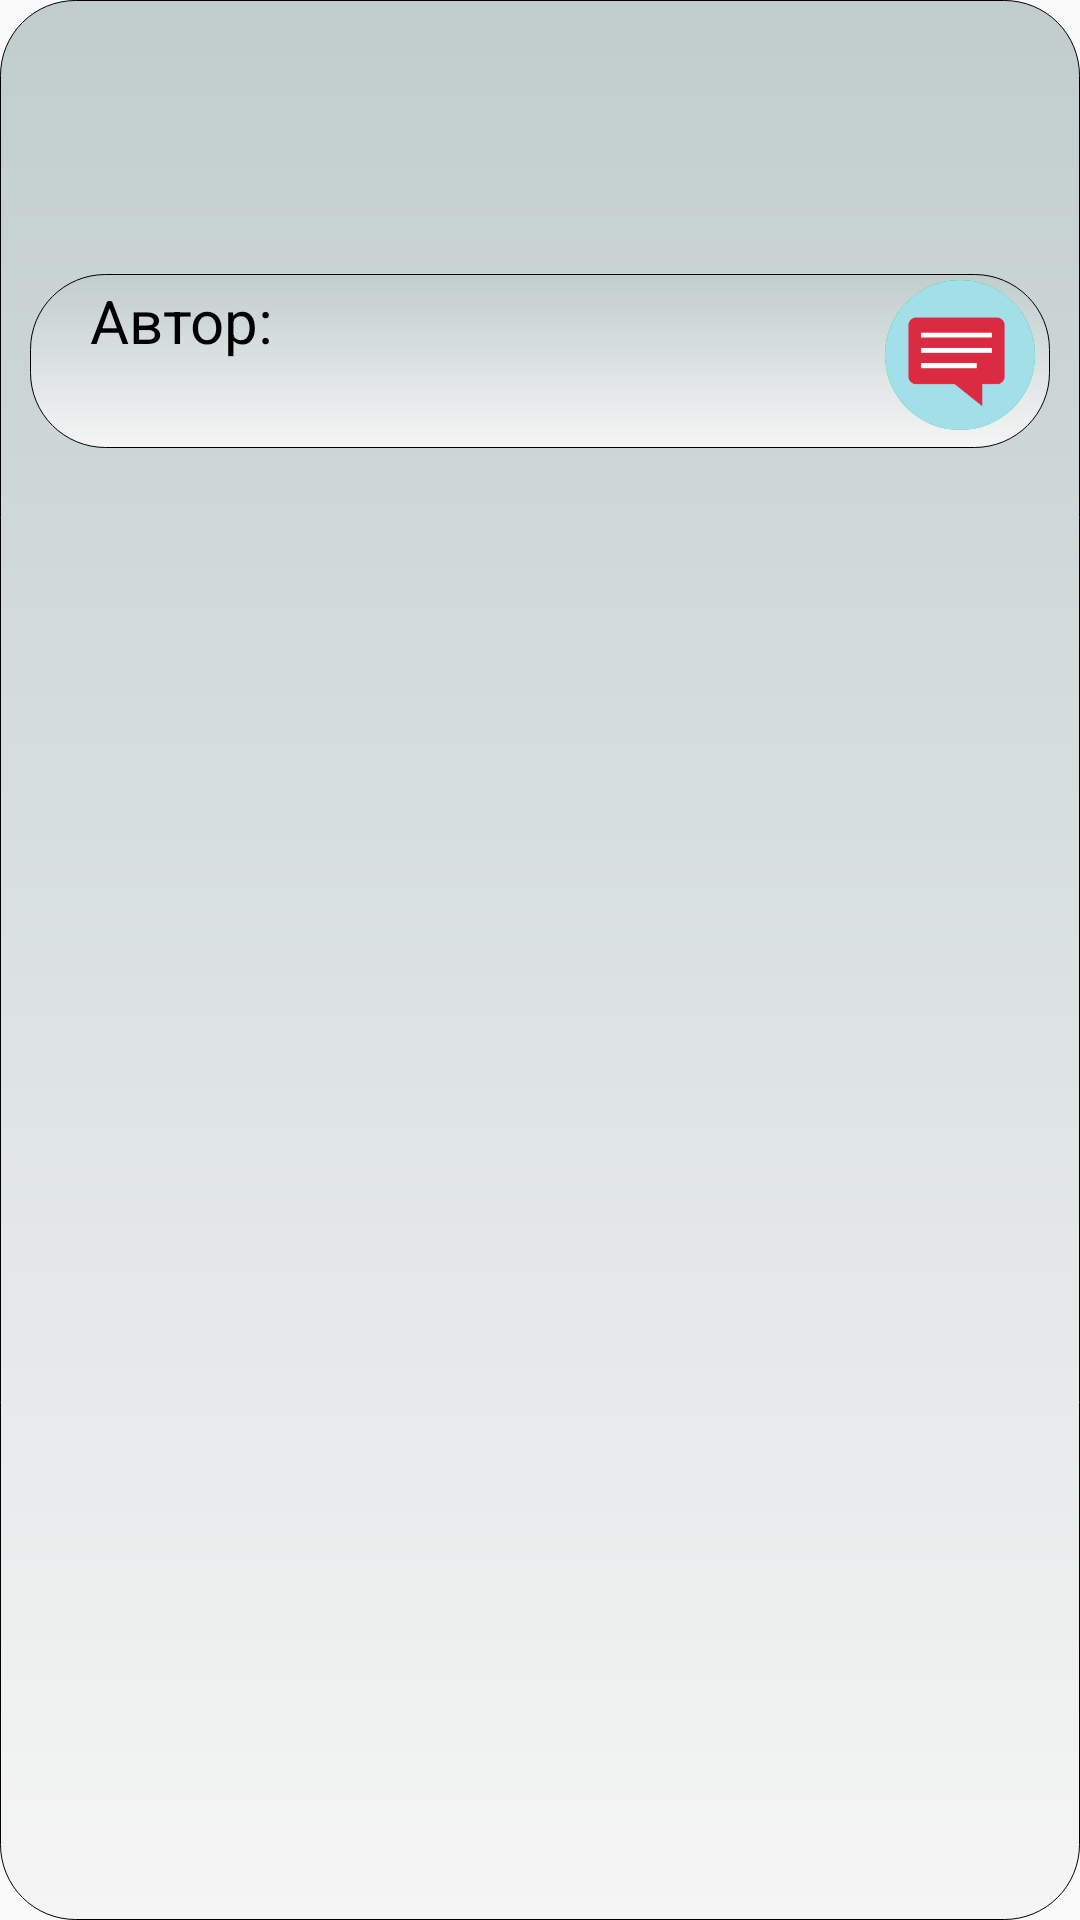

Icons on this 1080px×1920px Android screen, each with the point to tap as (x=x, y=y):
coment: (x=960, y=355)
